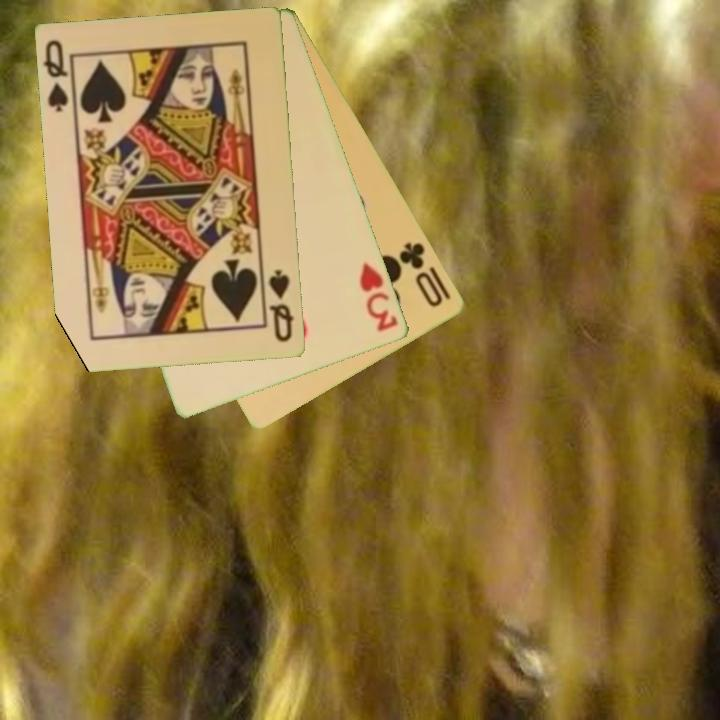10c: (396, 238, 447, 310)
3h: (356, 259, 402, 335)
Qs: (265, 266, 297, 345), (40, 37, 72, 116)
